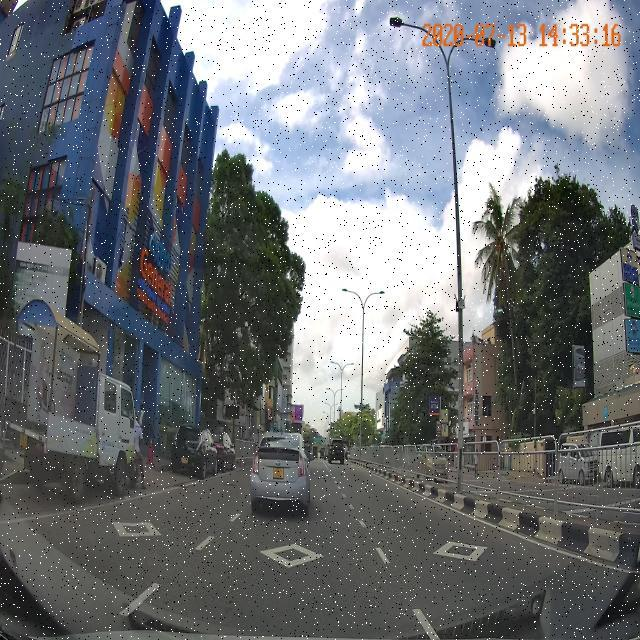diamond: (139, 523, 419, 602)
